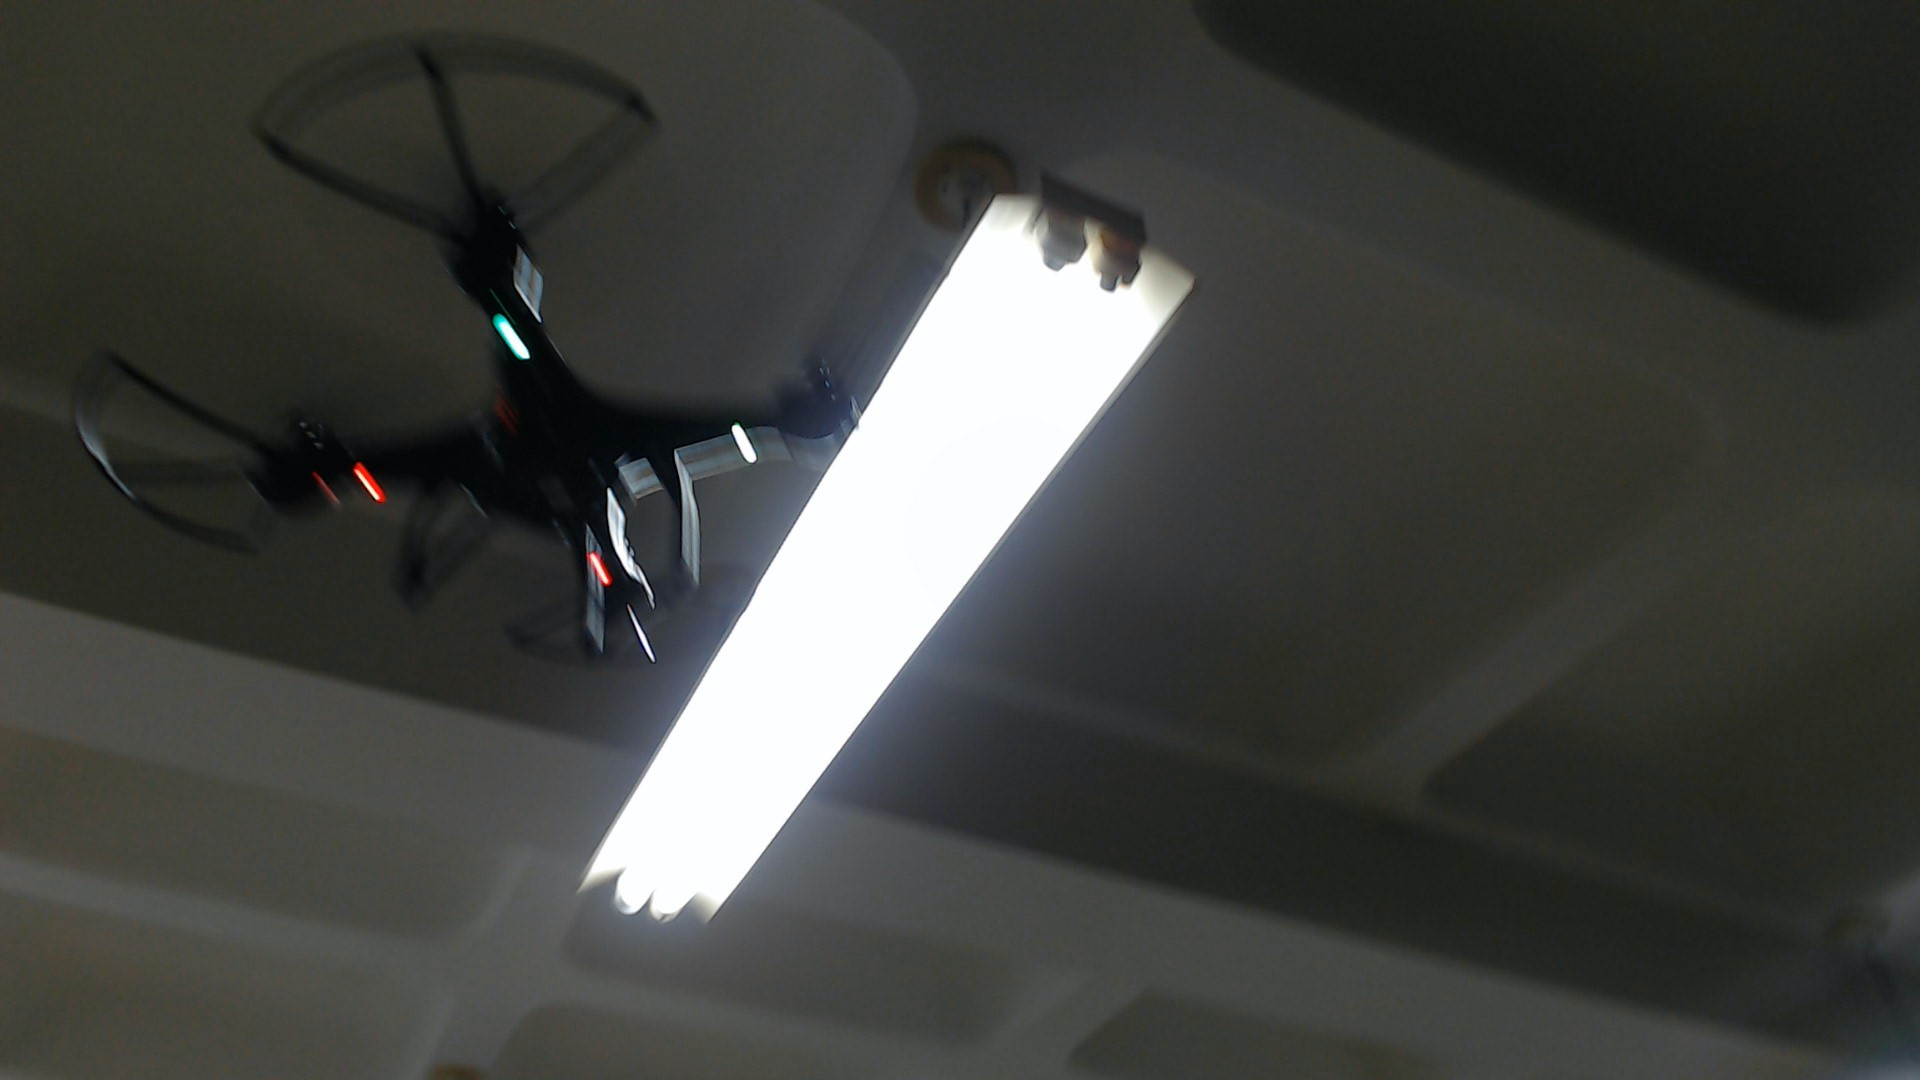drone: (67, 32, 996, 674)
